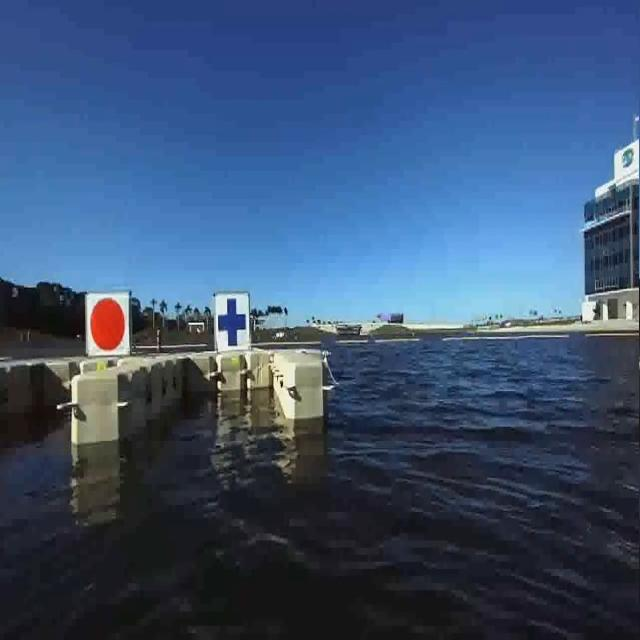blue-cross: (214, 282, 253, 354)
red-dot: (84, 286, 136, 354)
